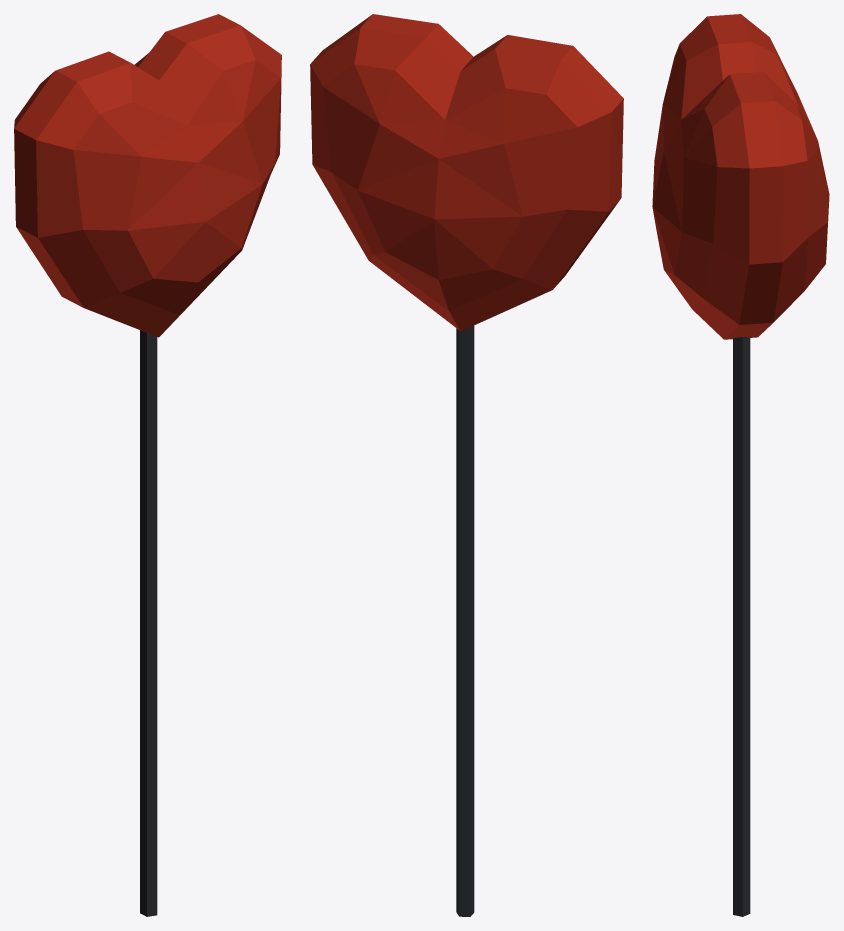
Rendered from SM_Prop_Balloon_01.fbx.
3 renders of one model, left to right at view 1: azimuth 30°, elevation 25°; view 2: azimuth 150°, elevation 25°; view 3: azimuth 270°, elevation 25°, orthographic. The views are drawn at different scales.
Visible parts, largest first — view 1: SM_Prop_Balloon_01; view 2: SM_Prop_Balloon_01; view 3: SM_Prop_Balloon_01.
Boxes of the visible parts, x1,y1,x2,y2 form: SM_Prop_Balloon_01: [14, 14, 281, 916]; SM_Prop_Balloon_01: [310, 14, 623, 916]; SM_Prop_Balloon_01: [652, 14, 829, 916].
Size of the model in its own units: 35.73 by 107 by 20.09.
Materials: 1 (1 with a texture image).
